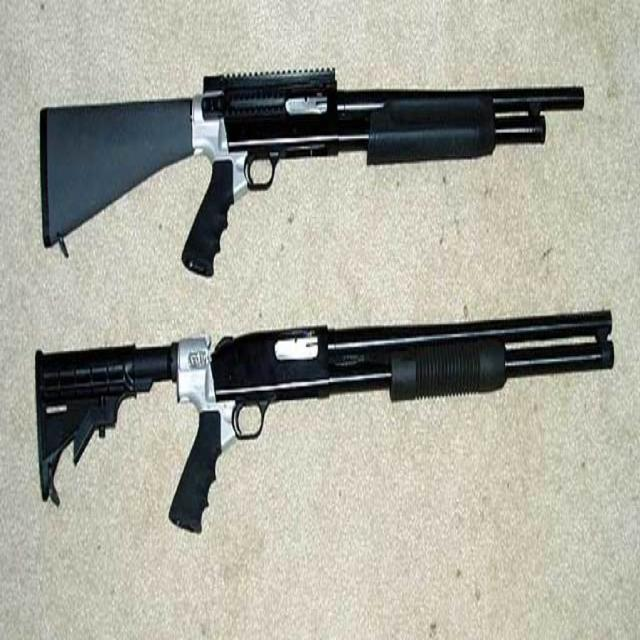weapon: (32, 306, 615, 544), (38, 64, 585, 273)
